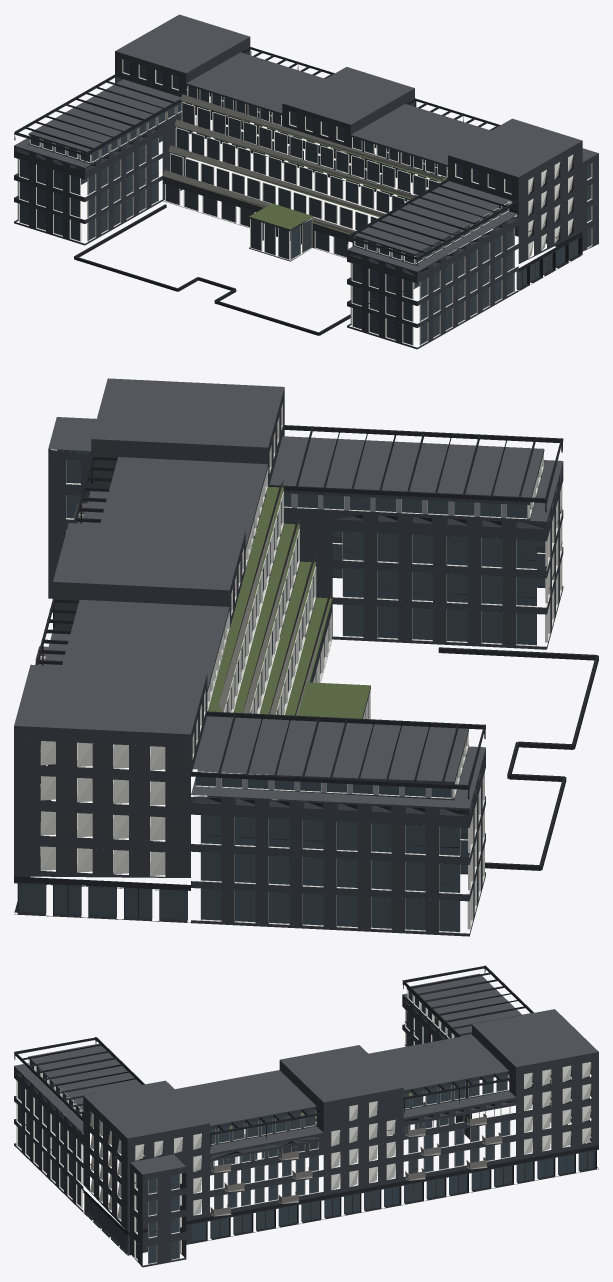
Rendered from de-valerius.lod1.glb.
The picture shows the model from 3 angles, top to bottom: view 1: azimuth 30°, elevation 25°; view 2: azimuth 150°, elevation 25°; view 3: azimuth 270°, elevation 25°; orthographic projection. The views are drawn at different scales.
Parts seen in each view (by area): view 1: de-valerius; view 2: de-valerius; view 3: de-valerius.
Part boxes in pixels (x1,y1,x2,y2): de-valerius: (14, 14, 598, 349); de-valerius: (14, 378, 598, 936); de-valerius: (14, 965, 598, 1267).
Bounding box in the file's own units: 73.71 × 19.3 × 87.29.
